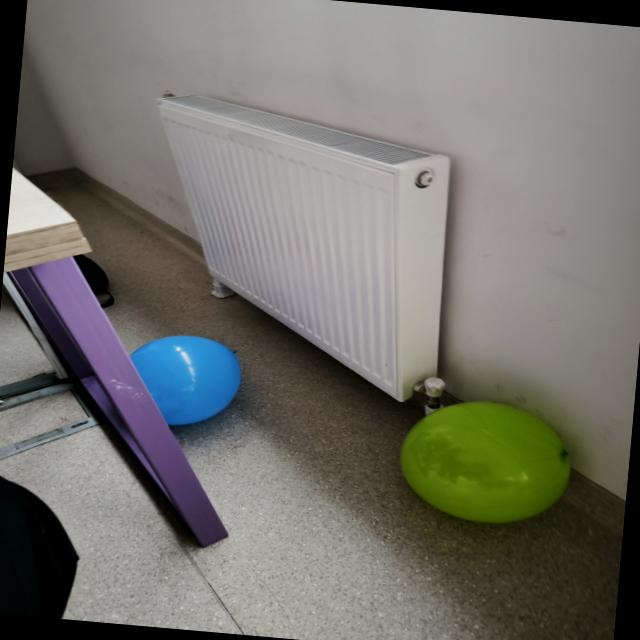balloon: (400, 402, 569, 522), (130, 335, 241, 425)
